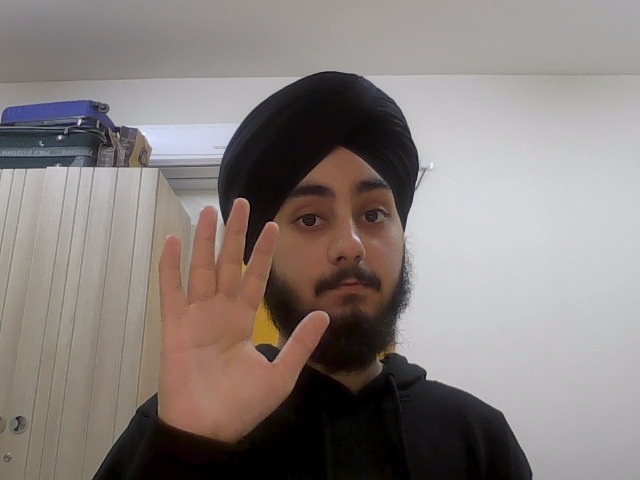Hello: (155, 195, 330, 438)
